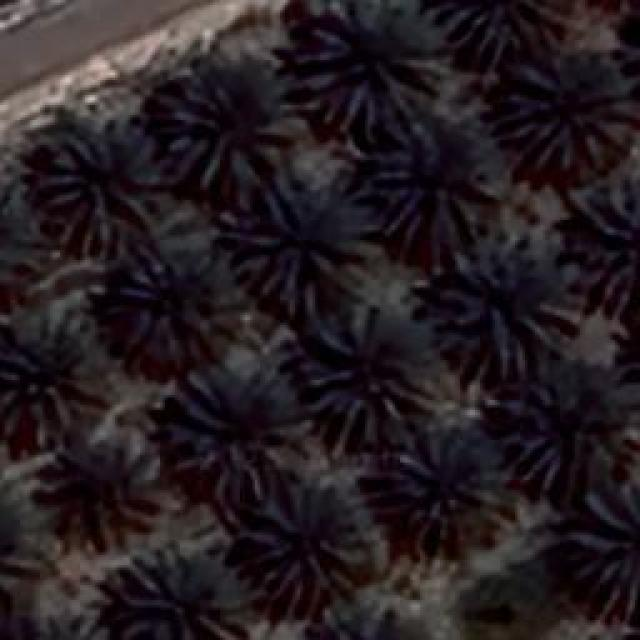PalmTree: (438, 222, 582, 376), (302, 0, 447, 132), (225, 185, 365, 318), (158, 67, 302, 195), (500, 49, 635, 172), (165, 378, 298, 500), (42, 128, 170, 252), (370, 120, 492, 245), (29, 436, 159, 552), (245, 482, 370, 602), (115, 238, 227, 368), (300, 312, 410, 438), (390, 434, 505, 548), (500, 380, 610, 490), (0, 310, 102, 425), (110, 547, 232, 635), (568, 480, 638, 612), (580, 185, 635, 310), (440, 0, 542, 55), (295, 596, 422, 640), (0, 158, 41, 281), (0, 480, 41, 602), (0, 606, 127, 640), (614, 0, 640, 95)
